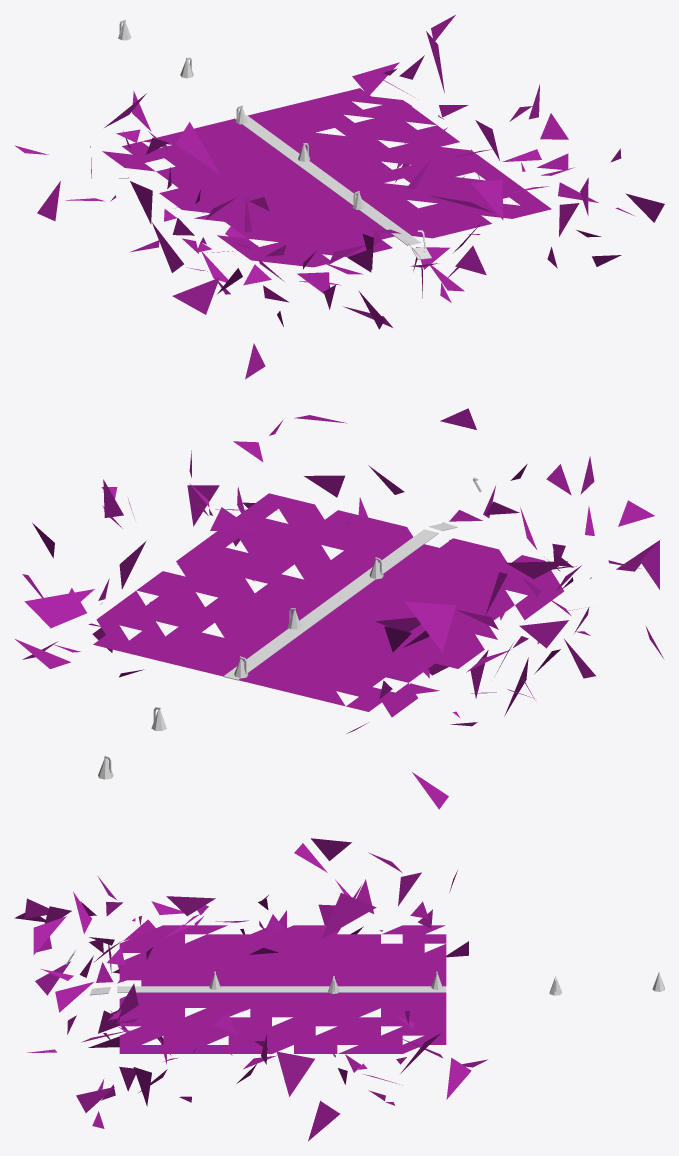
Rendered from roadsideOld.fbx.
3 renders of one model, top to bottom at view 1: azimuth 30°, elevation 25°; view 2: azimuth 150°, elevation 25°; view 3: azimuth 270°, elevation 25°, orthographic. The views are drawn at different scales.
Parts seen in each view (by area): view 1: Plane, Plane.001, Cube.001; view 2: Plane, Plane.001, Cube.001; view 3: Plane, Plane.001, Cube.001.
Part boxes in pixels (<box>): Plane: <box>102,88,551,267</box>; Plane.001: <box>14,15,664,379</box>; Cube.001: <box>234,115,420,245</box>; Plane: <box>93,493,564,717</box>; Plane.001: <box>15,408,664,809</box>; Cube.001: <box>223,529,438,680</box>; Plane: <box>119,925,446,1053</box>; Plane.001: <box>14,838,487,1141</box>; Cube.001: <box>117,986,446,992</box>.
Bounding box in the file's own units: 29497 × 9222 × 37375.
